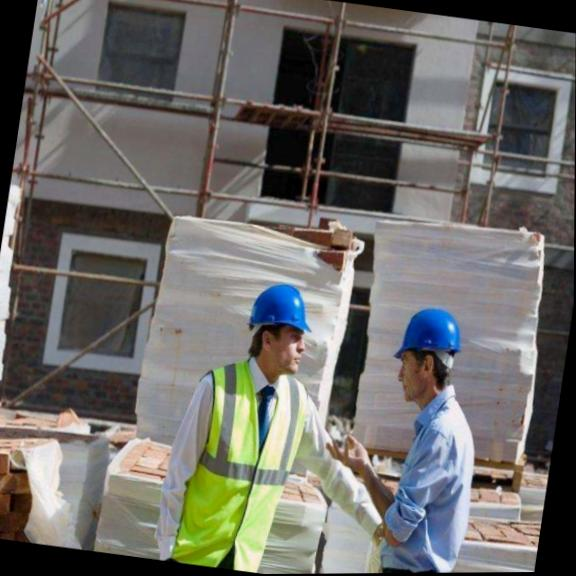no_safety_vest: (368, 408, 491, 573)
safety_vest: (172, 359, 307, 575)
